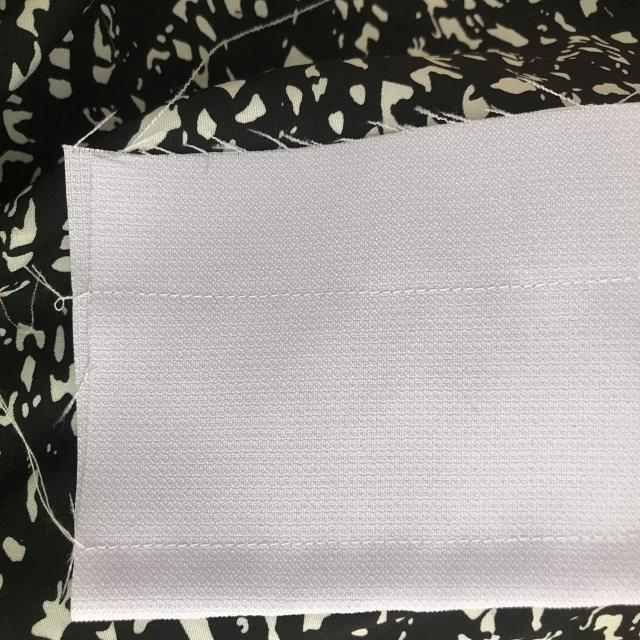good: (125, 274, 270, 325), (304, 272, 494, 306), (133, 532, 266, 567)
